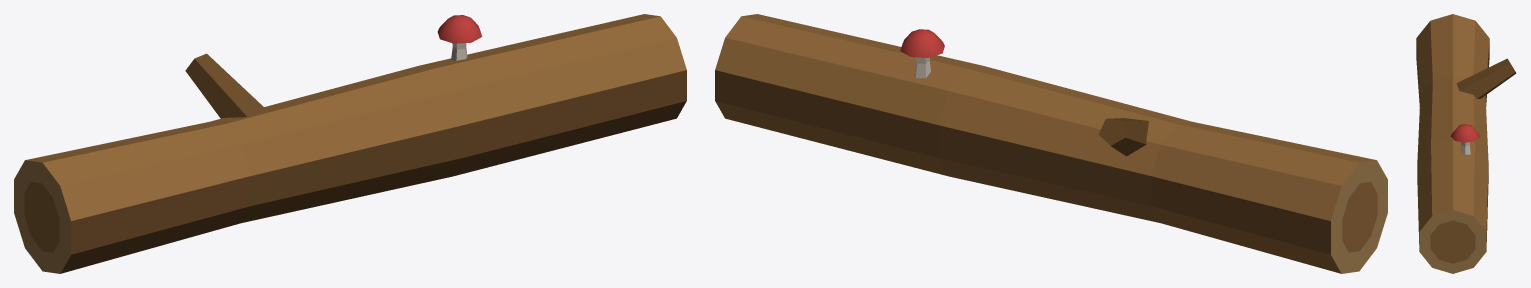
Rendered from log.glb.
3 renders of one model, left to right at view 1: azimuth 30°, elevation 25°; view 2: azimuth 150°, elevation 25°; view 3: azimuth 270°, elevation 25°, orthographic. The views are drawn at different scales.
Parts seen in each view (by area): view 1: FallenLog; view 2: FallenLog; view 3: FallenLog.
Boxes of the visible parts, bbox=[...] form: FallenLog: bbox=[14, 14, 686, 273]; FallenLog: bbox=[715, 14, 1387, 273]; FallenLog: bbox=[1416, 14, 1516, 273].
Bounding box in the file's own units: 2.2 × 0.4899 × 0.4821.
